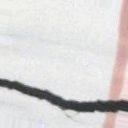crackTip: (1, 78, 128, 119)
